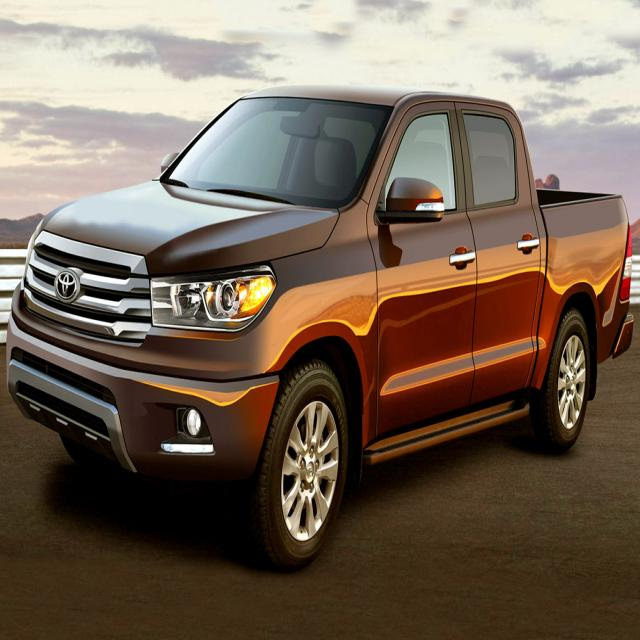light_vehicle: (13, 51, 640, 574)
